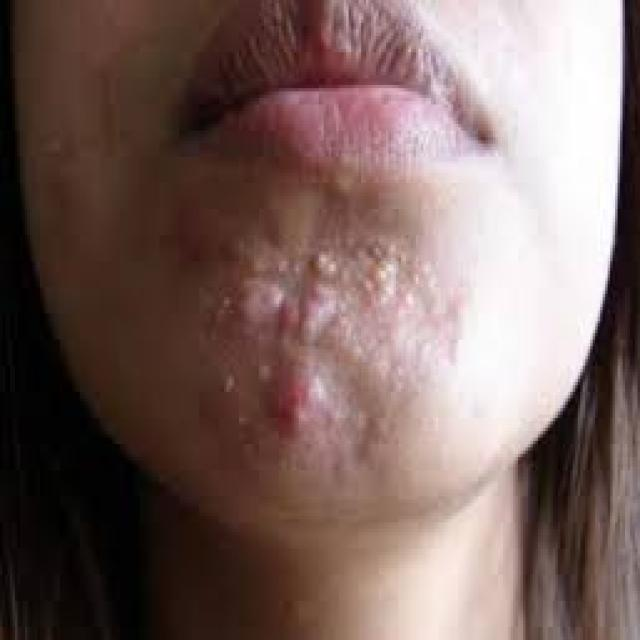Acne: (214, 274, 285, 336), (262, 366, 322, 438), (276, 282, 334, 343), (364, 253, 403, 289), (306, 247, 340, 283)
